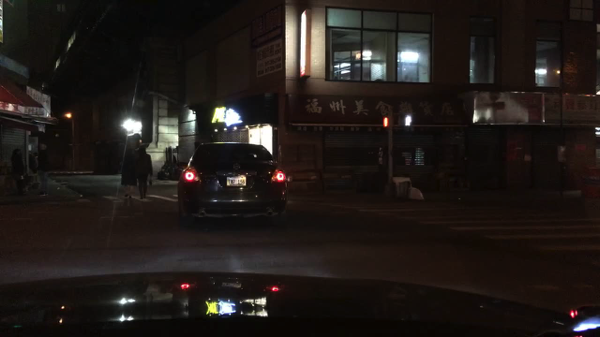car: (176, 142, 287, 226)
person: (9, 148, 28, 195), (136, 147, 153, 199), (35, 143, 49, 196), (121, 150, 136, 199)
traffic light: (394, 114, 412, 130), (383, 117, 388, 129)
